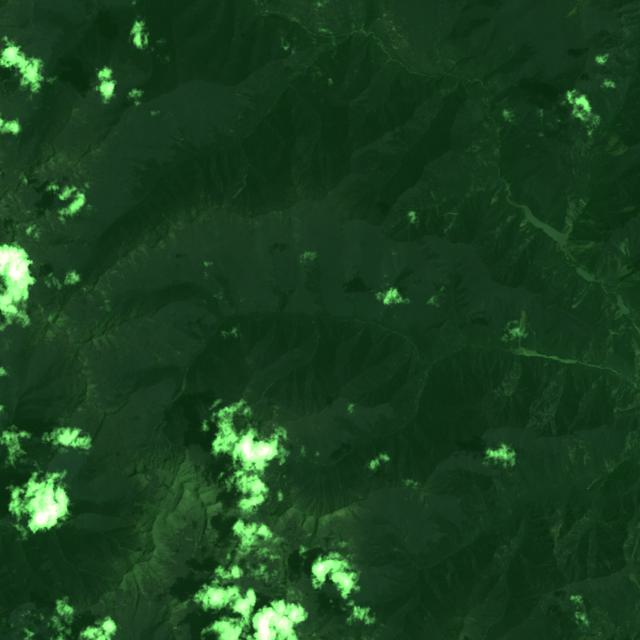landslides: (517, 309, 530, 359), (571, 281, 593, 309), (573, 280, 590, 300), (571, 241, 595, 255), (490, 184, 502, 204), (609, 204, 636, 212), (569, 202, 582, 216), (568, 445, 577, 464), (630, 573, 640, 589), (566, 209, 579, 220), (518, 223, 532, 232), (604, 459, 612, 474), (612, 309, 622, 321), (626, 440, 634, 453)
